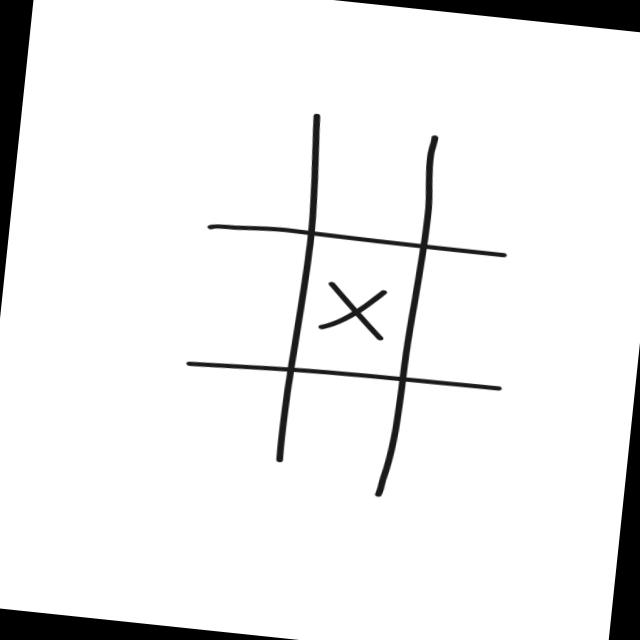X: (306, 265, 406, 349)
grid: (168, 104, 550, 524)
